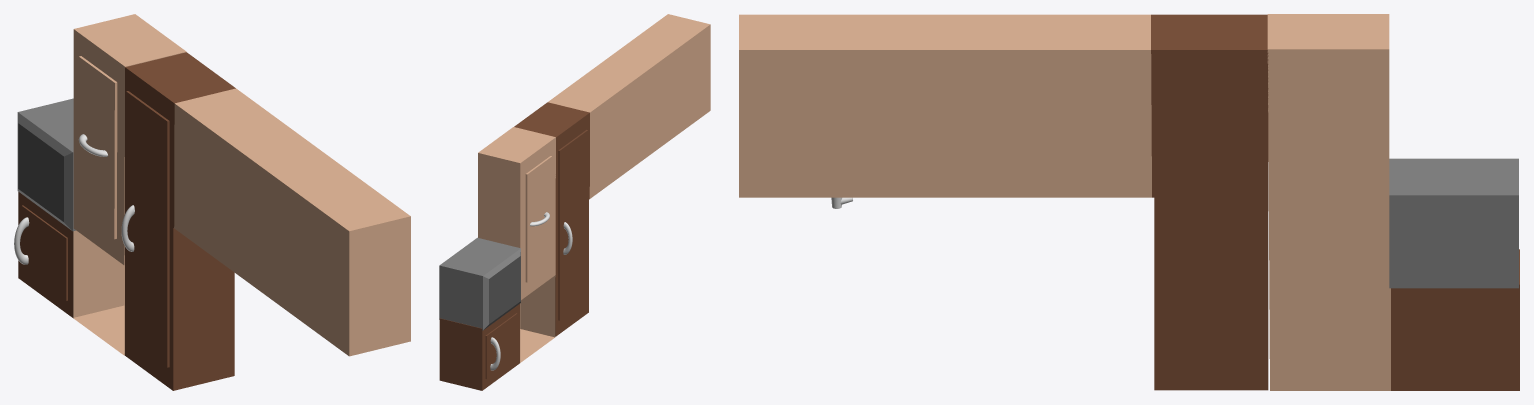
File: tezgah.fbx
The picture shows the model from 3 angles, left to right: view 1: azimuth 30°, elevation 25°; view 2: azimuth 150°, elevation 25°; view 3: azimuth 270°, elevation 25°; orthographic projection. The views are drawn at different scales.
Parts seen in each view (by area): view 1: Cube.001, Cube.003, Cube.002, Cube, Cube.004, Cube.005, Torus.002, Torus; view 2: Cube.001, Cube.002, Cube.003, Cube, Cube.004, Cube.005; view 3: Cube.001, Cube.002, Cube.003, Cube.004, Cube.
Part boxes in pixels (x1=…): Cube.001: x1=174, y1=88, x2=410, y2=356; Cube.003: x1=125, y1=52, x2=235, y2=390; Cube.002: x1=73, y1=14, x2=186, y2=355; Cube: x1=18, y1=192, x2=72, y2=317; Cube.004: x1=17, y1=98, x2=75, y2=231; Cube.005: x1=18, y1=123, x2=63, y2=221; Torus.002: x1=14, y1=217, x2=29, y2=264; Torus: x1=121, y1=205, x2=134, y2=251; Cube.001: x1=548, y1=14, x2=710, y2=198; Cube.002: x1=478, y1=127, x2=555, y2=362; Cube.003: x1=514, y1=102, x2=589, y2=336; Cube: x1=439, y1=304, x2=519, y2=390; Cube.004: x1=439, y1=237, x2=520, y2=330; Cube.005: x1=489, y1=256, x2=520, y2=323; Cube.001: x1=739, y1=14, x2=1151, y2=197; Cube.002: x1=1267, y1=14, x2=1390, y2=390; Cube.003: x1=1151, y1=14, x2=1268, y2=390; Cube.004: x1=1389, y1=158, x2=1518, y2=288; Cube: x1=1391, y1=249, x2=1519, y2=390.
Size of the model in its own units: 251 by 898 by 1862.
